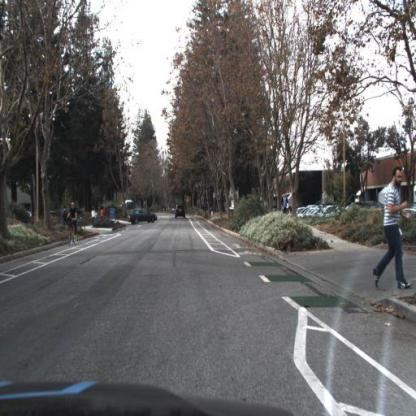biker: (68, 201, 80, 249)
car: (129, 210, 158, 226), (175, 202, 189, 222)
pedestrian: (373, 166, 413, 293), (282, 192, 290, 215), (92, 207, 98, 227), (63, 206, 68, 224), (102, 208, 105, 225)
